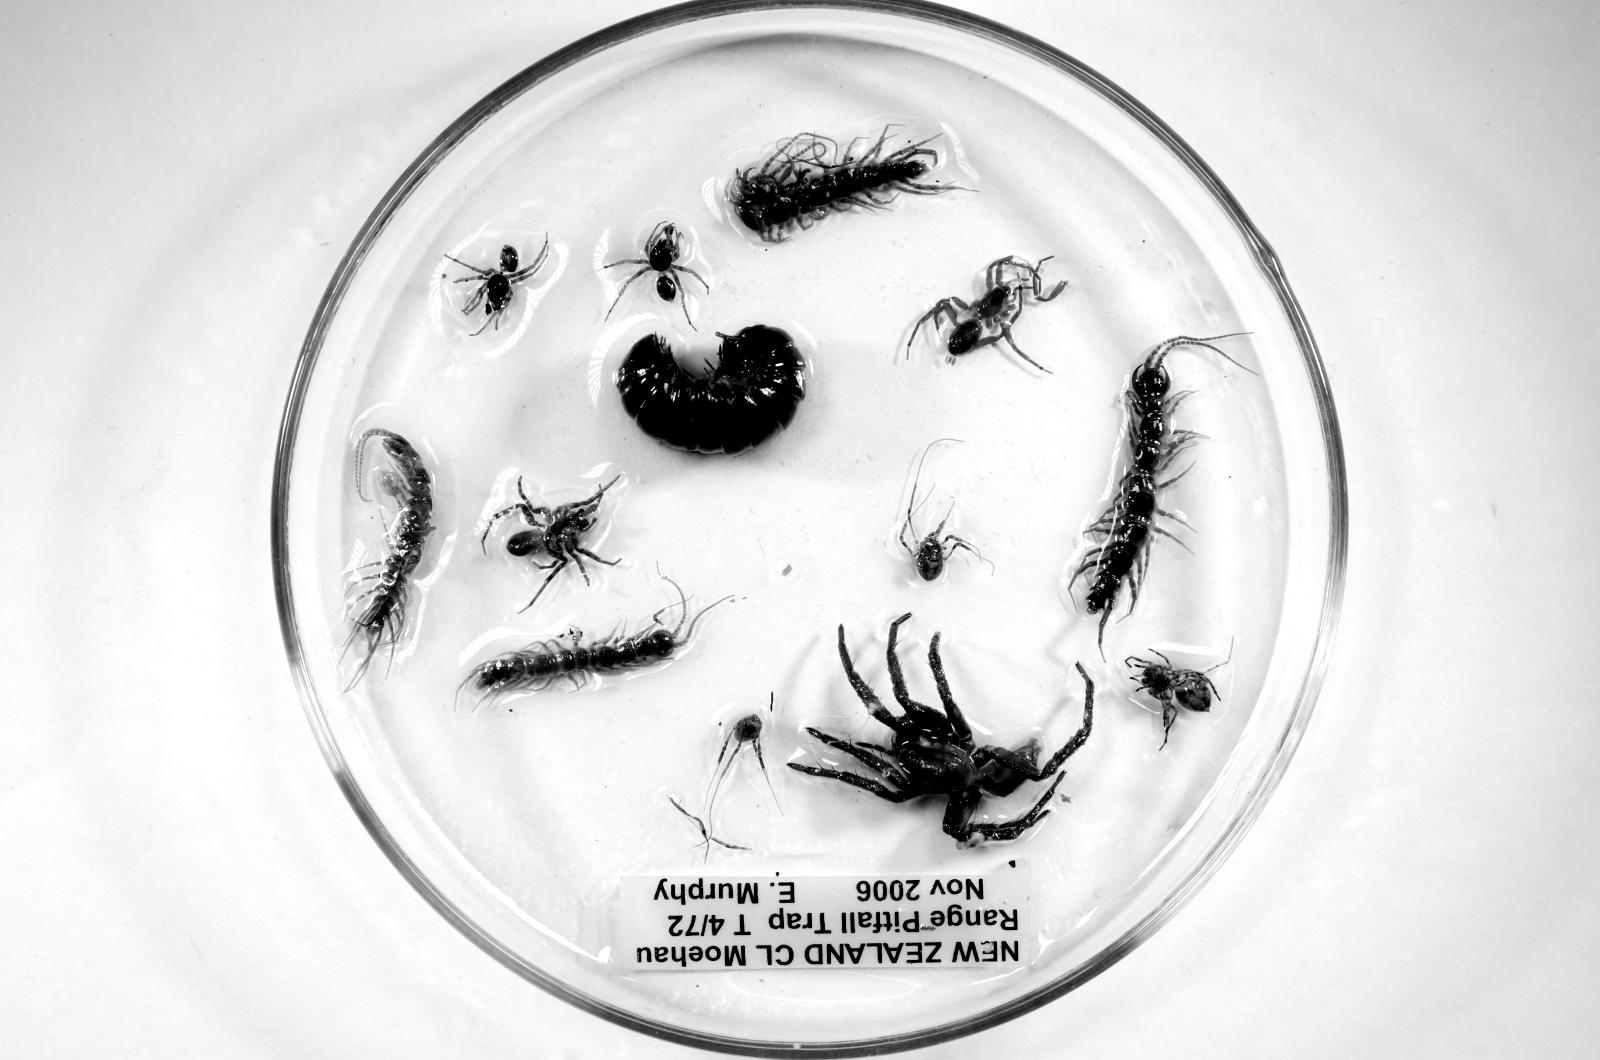araneae: (789, 613, 1094, 847), (905, 256, 1068, 371), (493, 477, 623, 596), (602, 221, 710, 327), (446, 234, 549, 335), (1125, 655, 1218, 746)
chilopoda: (1067, 334, 1238, 647), (458, 576, 736, 706), (725, 130, 969, 243), (345, 429, 435, 691)
isopoda: (618, 325, 805, 452)
opiliones: (896, 479, 985, 581), (715, 713, 767, 782)
